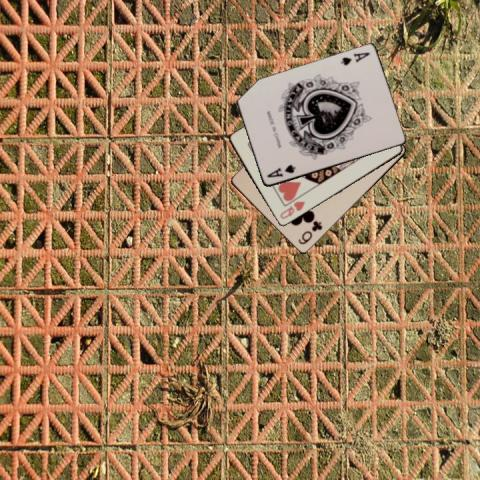6c: (295, 218, 324, 246)
As: (338, 50, 372, 68), (264, 162, 297, 179)
Qh: (276, 198, 306, 221)
